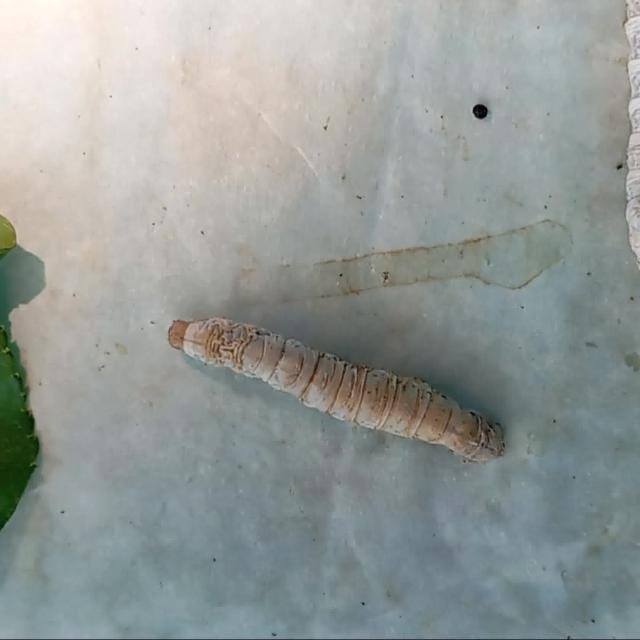Grasserie: (153, 278, 562, 492)
